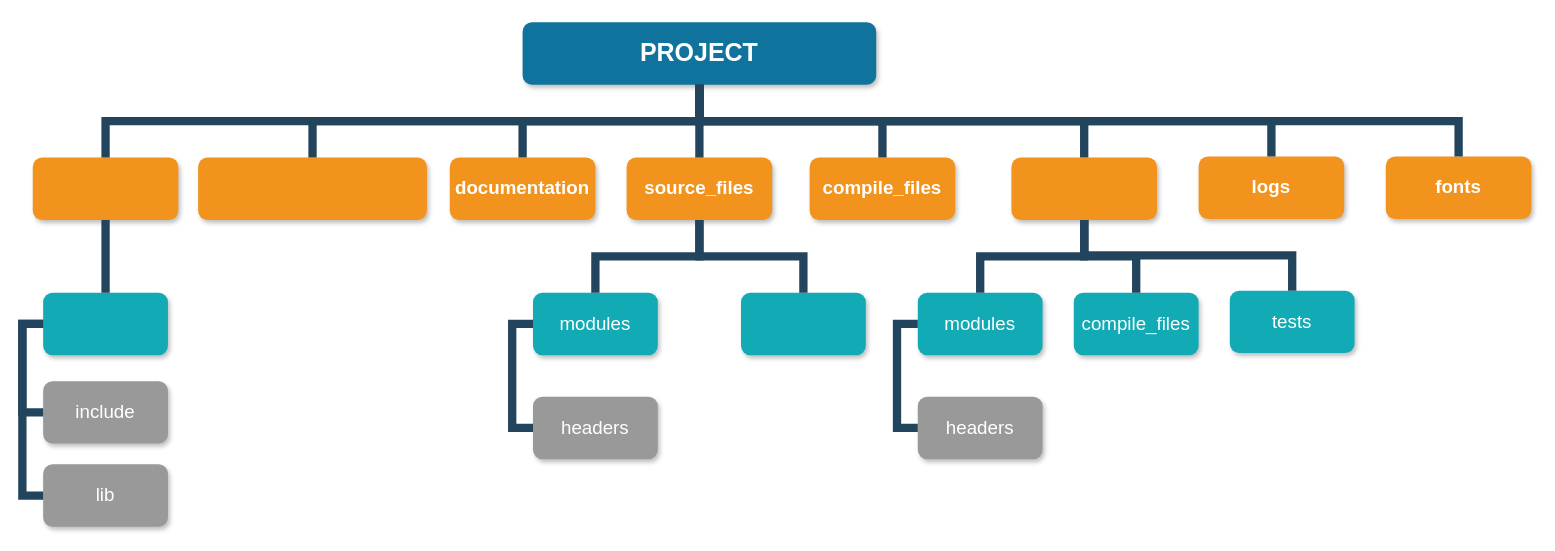
Some shapes in this 1555 by 551 pixel diagram are drawn without their labels. Here are the shapes that lost their labels. From the top down, the centre of each, then its label:
(106,190): lib_files
(313,190): documentation_pictures
(1085,190): testing_files
(106,325): SFML
(804,325): settings
